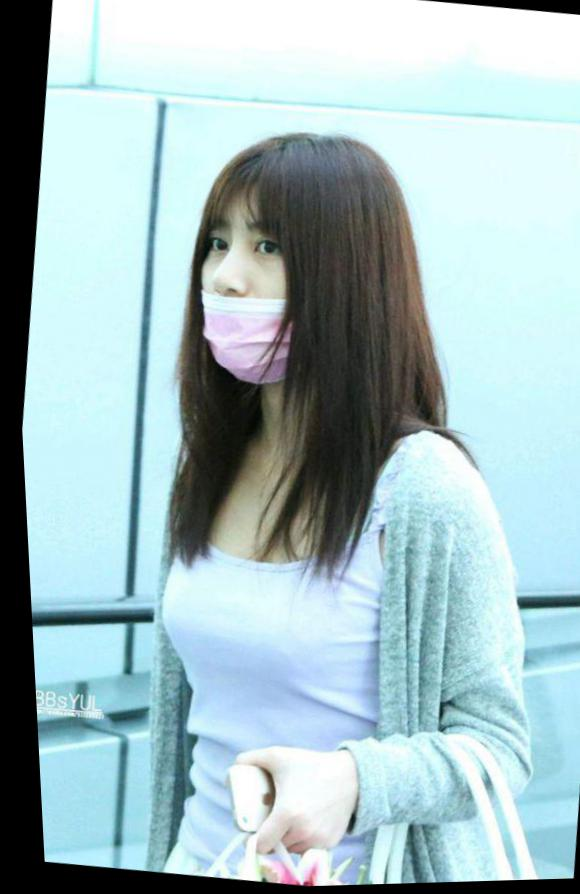WRONG: (174, 199, 356, 378)
